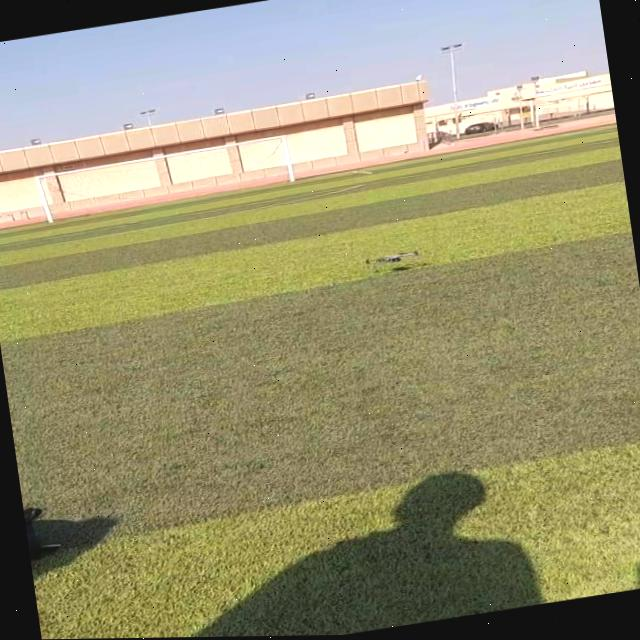drone: (356, 245, 424, 275)
